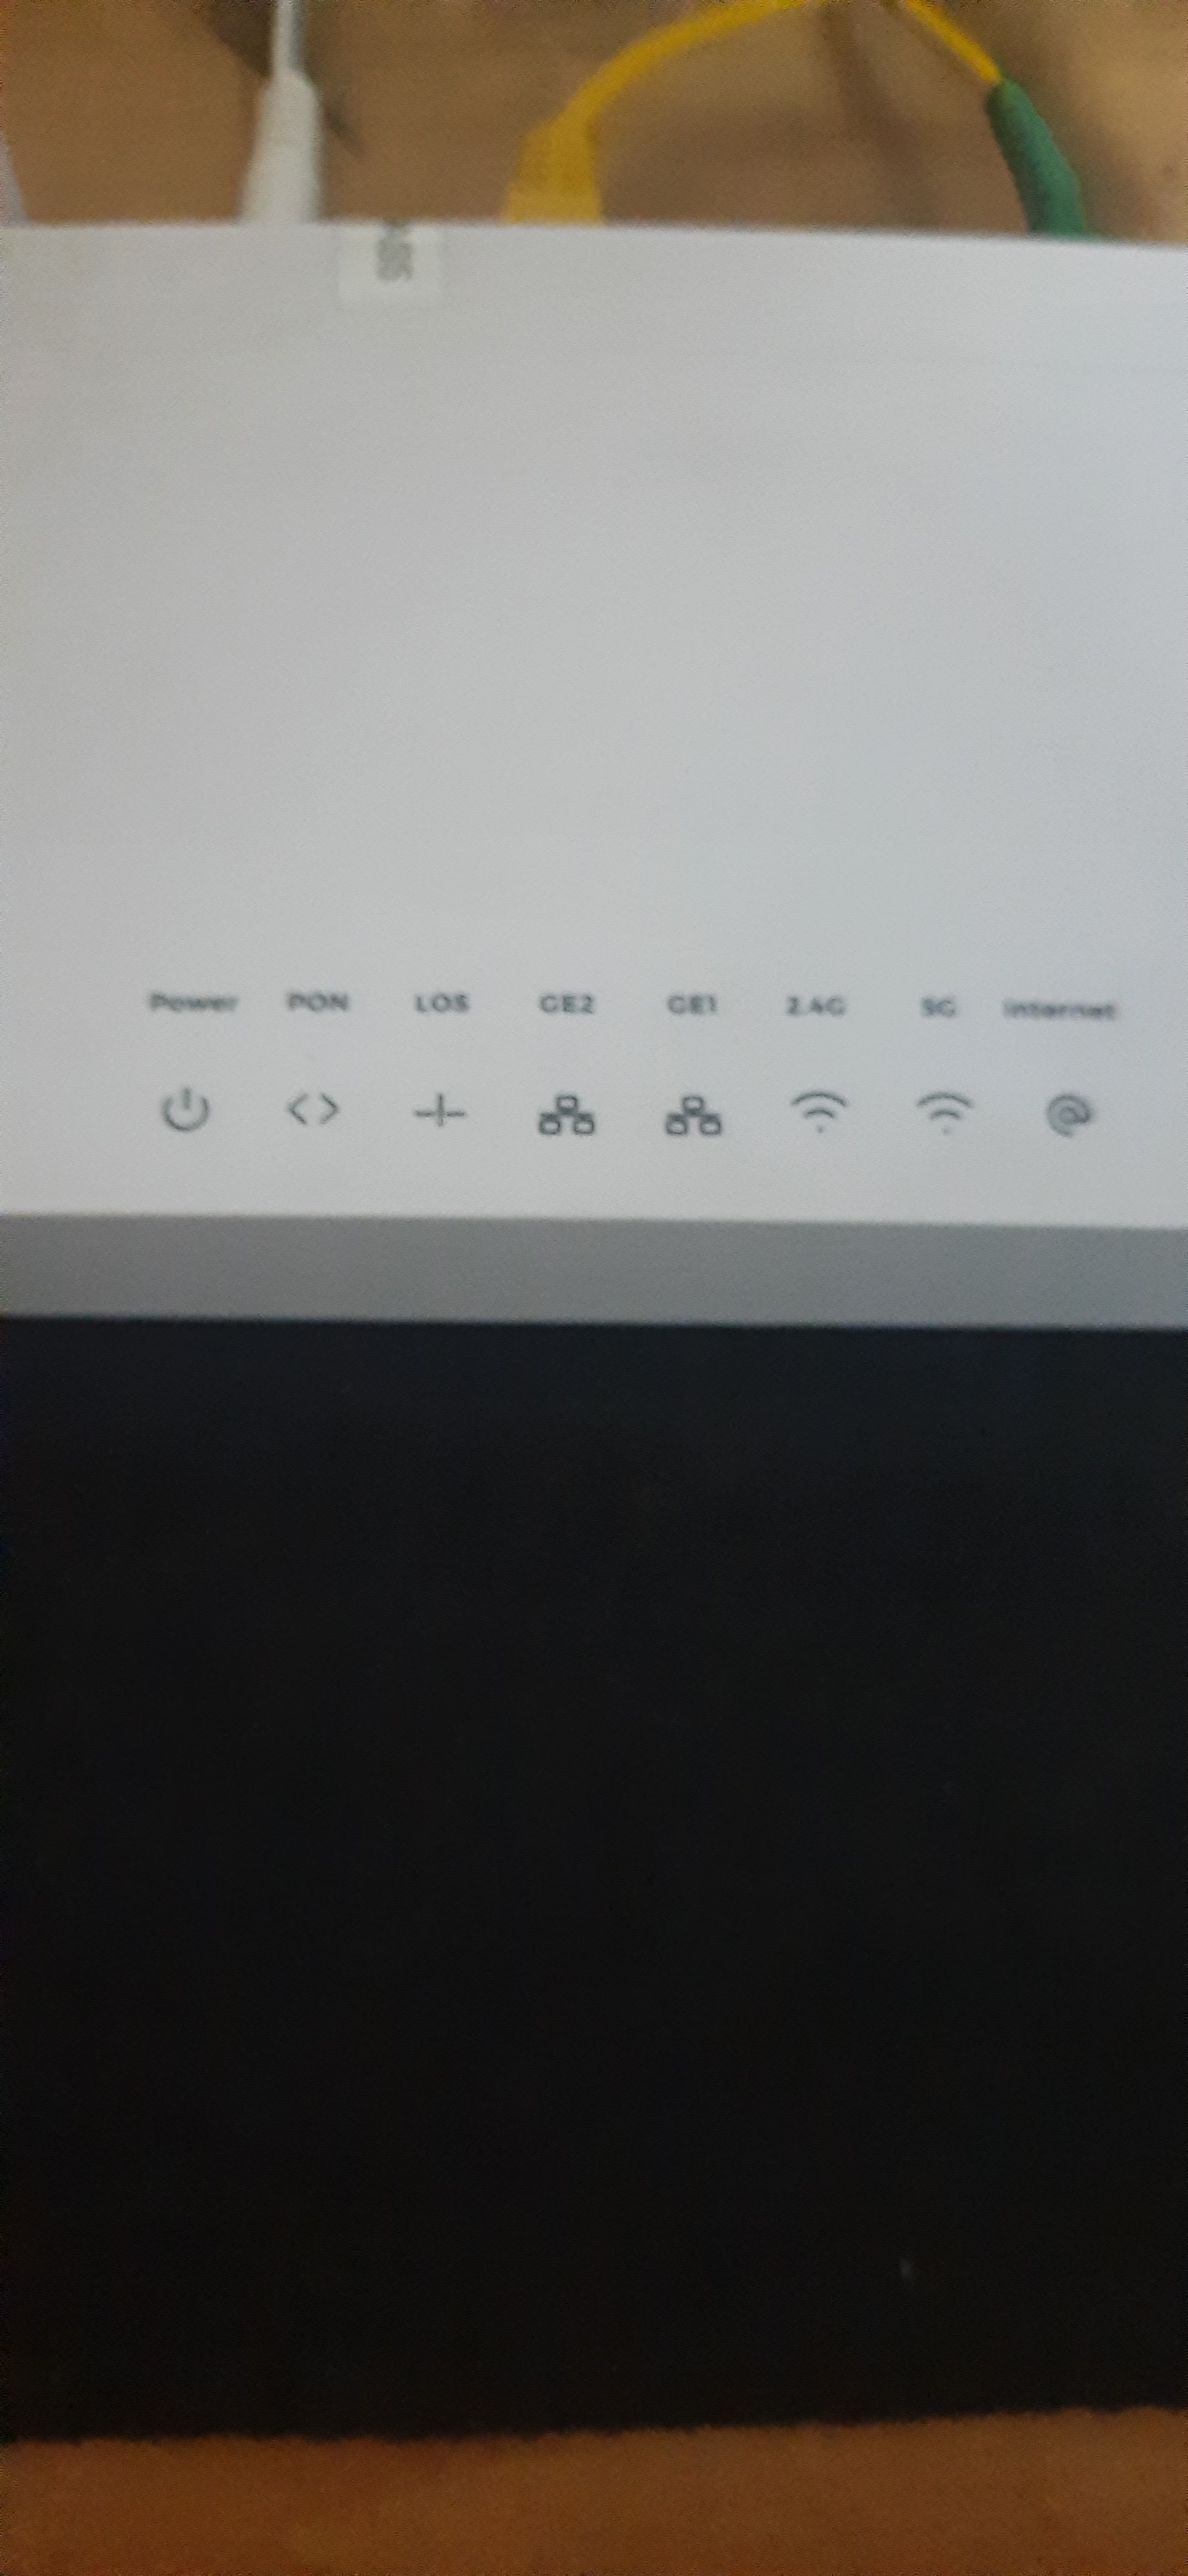WhiteWireIssue: (74, 905, 1130, 1194)
